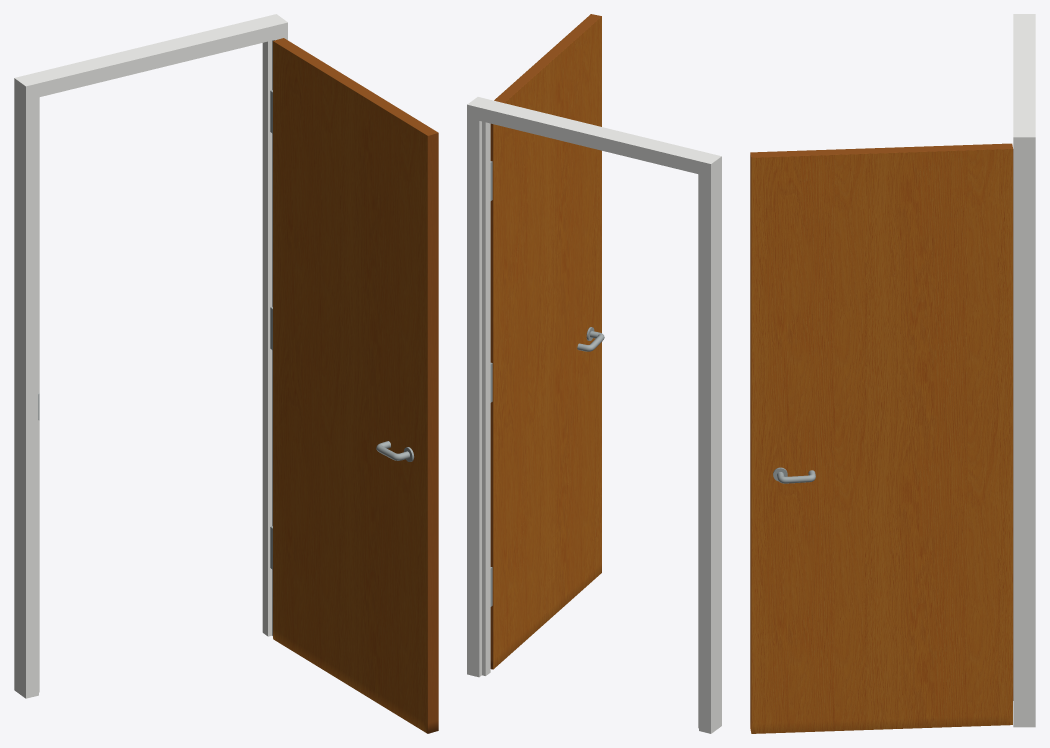
File: GEO_HearthDoor_Set_Full.fbx
3 renders of one model, left to right at view 1: azimuth 30°, elevation 25°; view 2: azimuth 150°, elevation 25°; view 3: azimuth 270°, elevation 25°, orthographic. The views are drawn at different scales.
Parts seen in each view (by area): view 1: GEO_HearthDoor, GEO_HearthDoor_Frame; view 2: GEO_HearthDoor, GEO_HearthDoor_Frame; view 3: GEO_HearthDoor, GEO_HearthDoor_Frame.
Part boxes in pixels (x1=…): GEO_HearthDoor: x1=273, y1=38, x2=438, y2=733; GEO_HearthDoor_Frame: x1=14, y1=14, x2=287, y2=698; GEO_HearthDoor: x1=490, y1=14, x2=601, y2=669; GEO_HearthDoor_Frame: x1=467, y1=97, x2=721, y2=733; GEO_HearthDoor: x1=750, y1=143, x2=1013, y2=733; GEO_HearthDoor_Frame: x1=1013, y1=14, x2=1035, y2=727.
Size of the model in its own units: 5.98 by 12.03 by 5.28.
